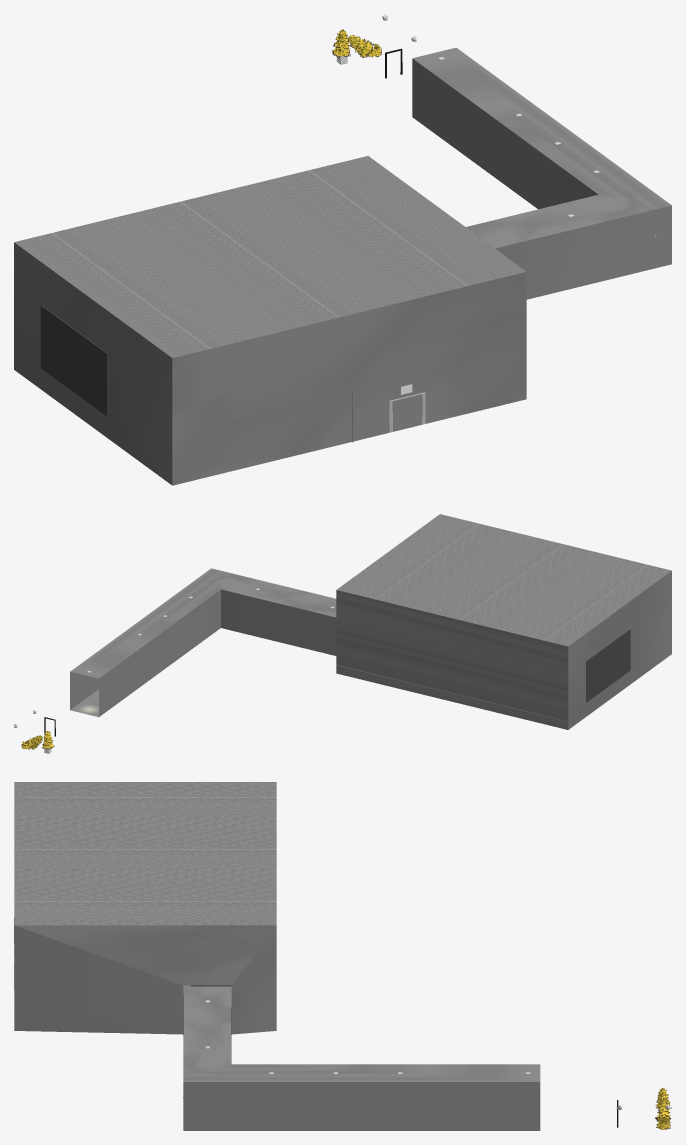
Rendered from below.glb.
3 views of the same model, one above another, from view 1: azimuth 30°, elevation 25°; view 2: azimuth 150°, elevation 25°; view 3: azimuth 270°, elevation 25° (orthographic). The views are drawn at different scales.
Visible parts, largest first — view 1: Corridors.Below, bigscreen; view 2: Corridors.Below, bigscreen; view 3: Corridors.Below.
Part boxes in pixels (x1,y1,x2,y2): Corridors.Below: (14, 47, 671, 485); bigscreen: (40, 305, 108, 416); Corridors.Below: (70, 514, 671, 729); bigscreen: (586, 629, 630, 702); Corridors.Below: (14, 782, 540, 1130).
Size of the model in its own units: 110 by 22.53 by 124.
10 materials, 8 textured.
